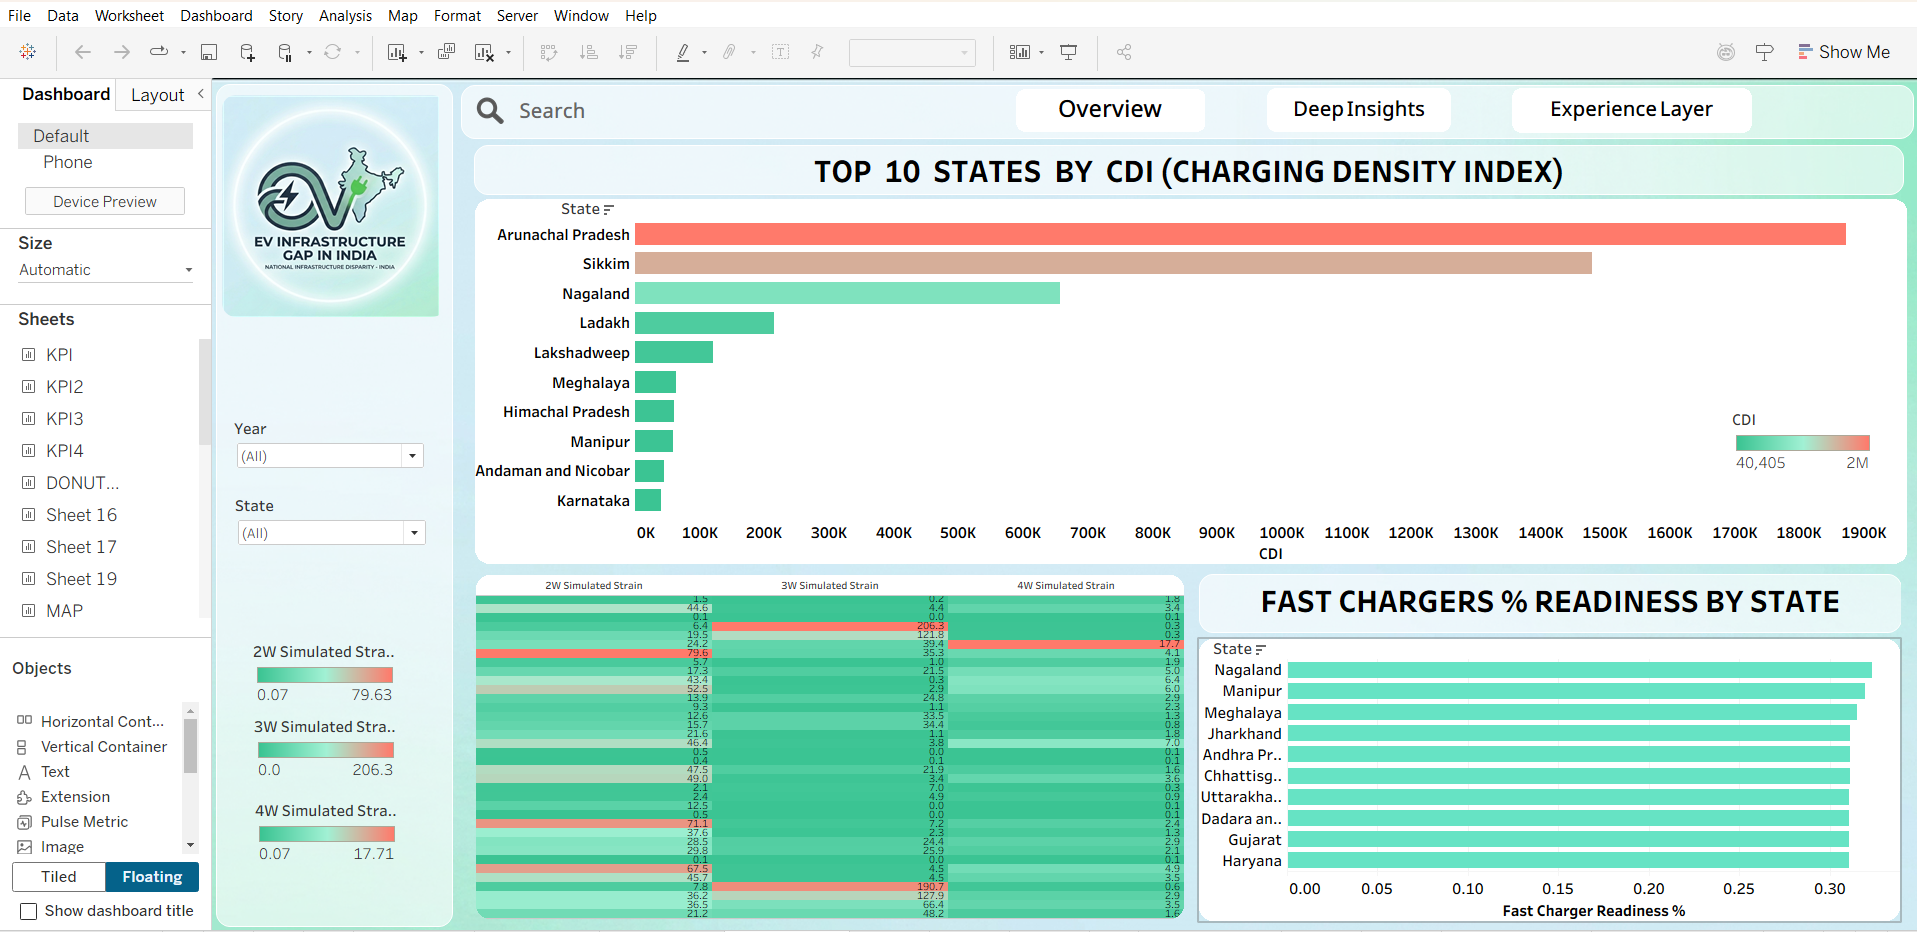

This screenshot's page, from the dashboard's own definition file:
{"tool":"tableau","page":{"name":"Dashboard 7","canvas":[1000,1000],"units":"permille","ordinal":2},"visuals":[{"type":"worksheet","title":"Sheet 33","mark":"Automatic","box":[3,8.2,137.7,988.2]},{"type":"worksheet","title":"Sheet 34","mark":"Automatic","box":[146.6,9.4,849.8,61.1]},{"type":"dashboard-object","box":[617.8,11.8,108,51.7]},{"type":"dashboard-object","box":[761.4,11.8,140.7,52.9]},{"type":"text","box":[178,12.9,121.1,54.1]},{"type":"dashboard-object","box":[471.2,12.9,111,50.5]},{"type":"image","param":"C:/Users/theza/AppData/Local/Temp/TableauTemp/06x31zc0irkpo91by8g131c0as1n/Sheet","box":[6,20,131,260.9]},{"type":"image","param":"C:/Users/theza/AppData/Local/Temp/TableauTemp/06x31zc0irkpo91by8g131c0as1n/Sheet","box":[154.5,21.2,18.1,32.9]},{"type":"text","box":[153.9,79.9,836.5,56.4]},{"type":"worksheet","title":"TOP 10 CDI STATES","mark":"Automatic","rows":["State"],"cols":["Calculation_2303755190366210"],"box":[154.3,142.2,839.2,428.9]},{"type":"legend","title":"TOP 10 CDI STATES","param":"[federated.13gvhhg19wd4i118qc4a7122l8m8].[usr:Calculation_2303755190366210:qk]","box":[890.2,388.9,83.1,103.4]},{"type":"filter","title":"TOP 10 CDI STATES","param":"[federated.13gvhhg19wd4i118qc4a7122l8m8].[none:Year:ok]","box":[12.7,399.5,112.9,79.9]},{"type":"filter","title":"MATRIX HEAP MAP","param":"[federated.13gvhhg19wd4i118qc4a7122l8m8].[none:State:nk]","box":[13.3,490,113.5,62.3]},{"type":"worksheet","title":"MATRIX HEAP MAP","mark":"Square","rows":["State"],"box":[154.5,584,415.2,404.2]},{"type":"text","box":[578.8,584,410.4,57.6]},{"type":"worksheet","title":"FAST CHARGER READINESS","mark":"Automatic","rows":["State"],"cols":["Calculation_1695460184875011"],"box":[578.1,659.2,411,331.4]},{"type":"legend","title":"MATRIX HEAP MAP","param":"[federated.13gvhhg19wd4i118qc4a7122l8m8].[usr:Calculation_2636642118512640:qk]","box":[24.1,661.6,84.5,78.7]},{"type":"legend","title":"MATRIX HEAP MAP","param":"[federated.13gvhhg19wd4i118qc4a7122l8m8].[usr:Calculation_2636642118864898:qk]","box":[24.7,749.7,84.5,103.4]},{"type":"legend","title":"MATRIX HEAP MAP","param":"[federated.13gvhhg19wd4i118qc4a7122l8m8].[usr:Calculation_2636642118660097:qk]","box":[25.4,848.4,84.5,103.4]}]}

Visuals, with their boxes on the dashboard's canvas, which has no fixed pixel size, in thousandths of its width and height (x1, y1, x2, y2). These are canvas units, not pixel positions in the 1917x932 screenshot, which may show the page scaled, cropped or inside an application window:
"Sheet 33" worksheet: Rect(3, 8, 141, 996)
"Sheet 34" worksheet: Rect(147, 9, 996, 70)
dashboard-object: Rect(618, 12, 726, 64)
dashboard-object: Rect(761, 12, 902, 65)
text: Rect(178, 13, 299, 67)
dashboard-object: Rect(471, 13, 582, 63)
image: Rect(6, 20, 137, 281)
image: Rect(154, 21, 173, 54)
text: Rect(154, 80, 990, 136)
"TOP 10 CDI STATES" worksheet: Rect(154, 142, 994, 571)
"TOP 10 CDI STATES" legend: Rect(890, 389, 973, 492)
"TOP 10 CDI STATES" filter: Rect(13, 400, 126, 479)
"MATRIX HEAP MAP" filter: Rect(13, 490, 127, 552)
"MATRIX HEAP MAP" worksheet (Square marks): Rect(154, 584, 570, 988)
text: Rect(579, 584, 989, 642)
"FAST CHARGER READINESS" worksheet: Rect(578, 659, 989, 991)
"MATRIX HEAP MAP" legend: Rect(24, 662, 109, 740)
"MATRIX HEAP MAP" legend: Rect(25, 750, 109, 853)
"MATRIX HEAP MAP" legend: Rect(25, 848, 110, 952)
